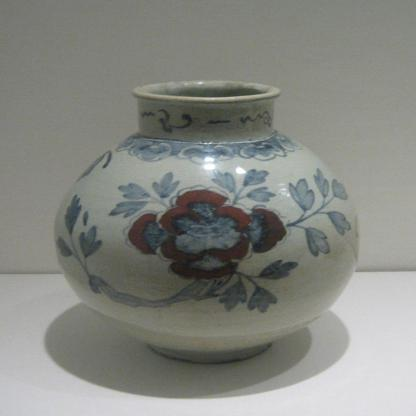vase: (54, 78, 361, 364)
